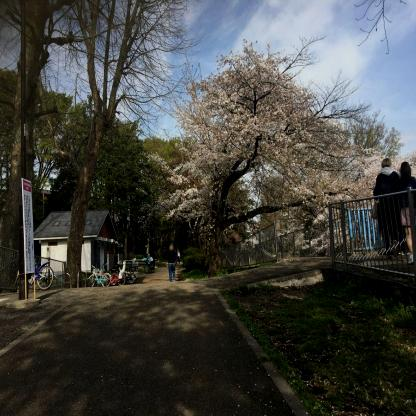Someiyoshino: (137, 34, 416, 274)
